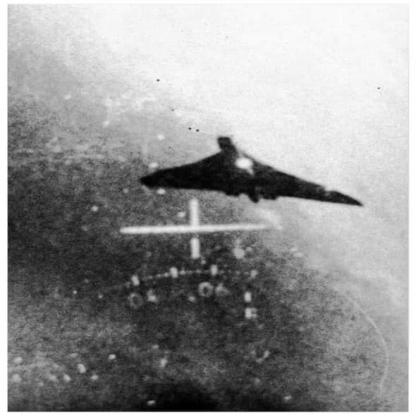Vulcan: (139, 136, 366, 209)
